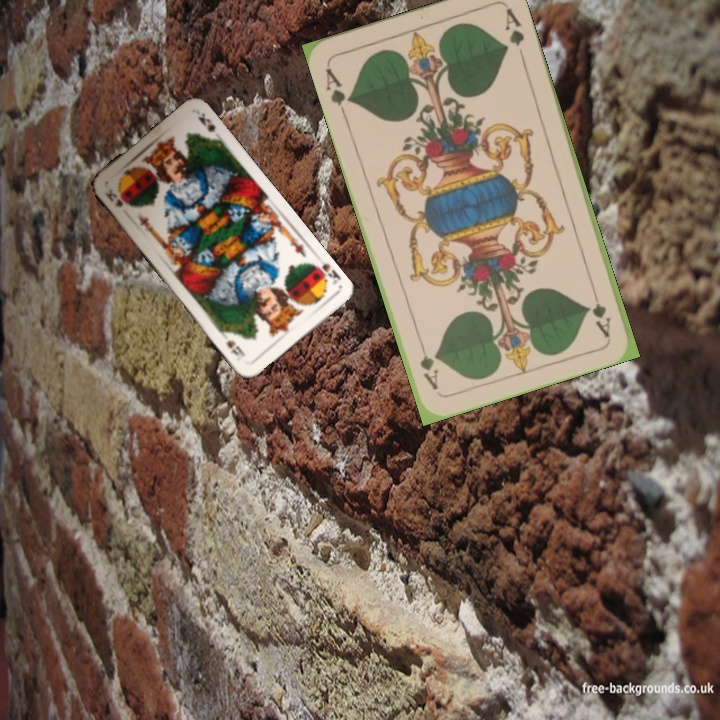GA: (321, 64, 355, 119), (587, 282, 613, 340)
SK: (308, 259, 343, 288), (101, 185, 126, 210)
